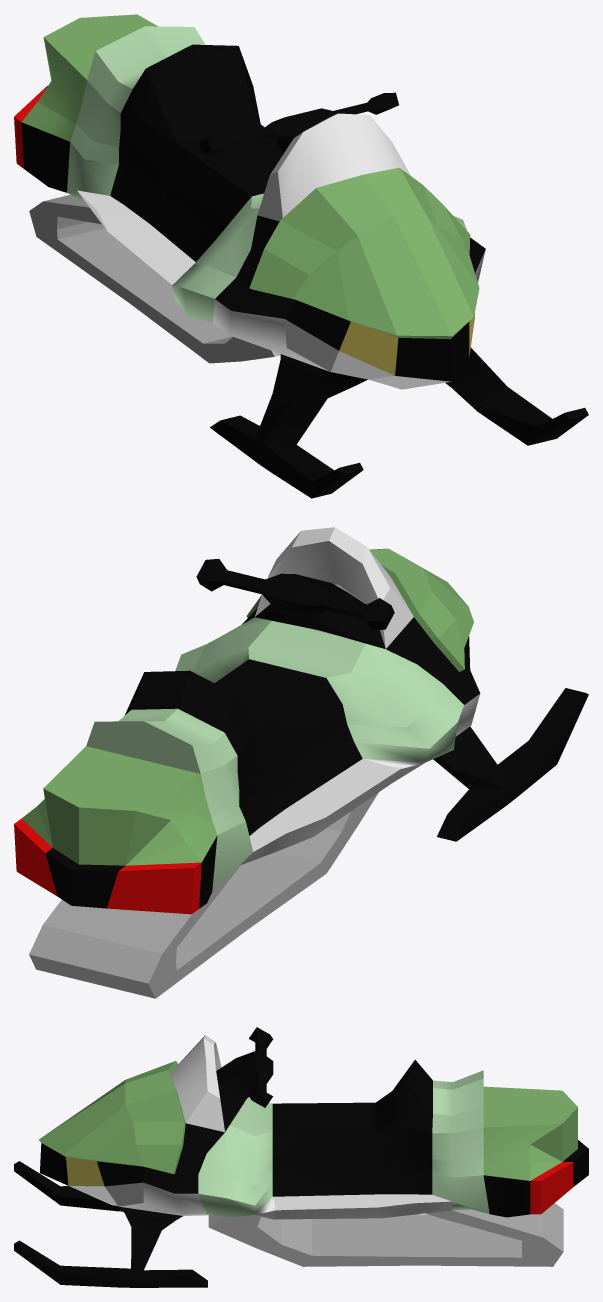
File: Snowmobile.fbx
The picture shows the model from 3 angles, top to bottom: view 1: azimuth 30°, elevation 25°; view 2: azimuth 150°, elevation 25°; view 3: azimuth 270°, elevation 25°; orthographic projection. The views are drawn at different scales.
Parts seen in each view (by area): view 1: Snowmobile; view 2: Snowmobile; view 3: Snowmobile.
Boxes of the visible parts, x1=… form: Snowmobile: x1=14, y1=14, x2=588, y2=498; Snowmobile: x1=14, y1=527, x2=588, y2=998; Snowmobile: x1=14, y1=1027, x2=588, y2=1287.
Bounding box in the file's own units: 124 × 121 × 304.
